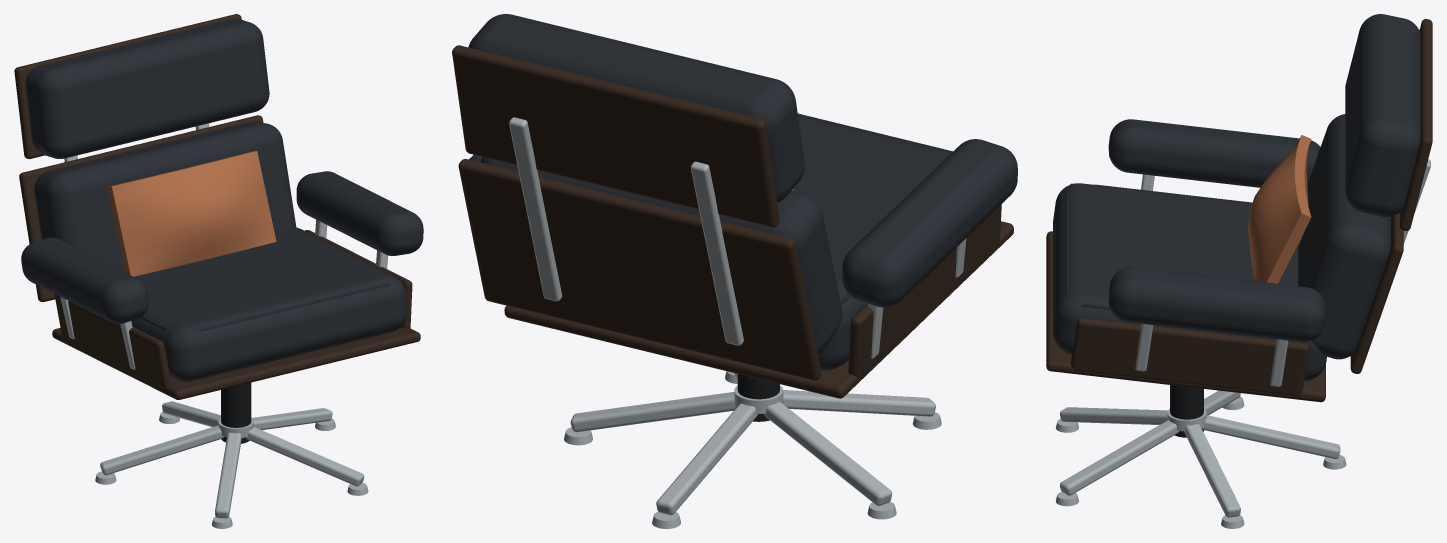
Rendered from atelier-molded-obsidian.glb.
3 renders of one model, left to right at view 1: azimuth 30°, elevation 25°; view 2: azimuth 150°, elevation 25°; view 3: azimuth 270°, elevation 25°, orthographic. The views are drawn at different scales.
Size of the model in its own units: 0.8695 by 0.934 by 0.823.
